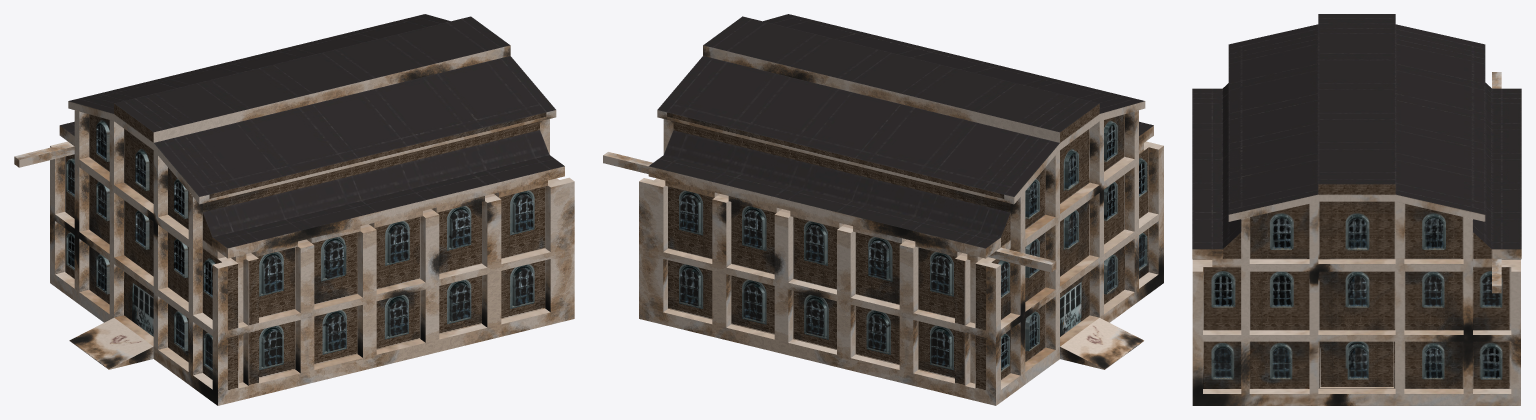
The model's file is torDistPoliceStation.fbx.
3 views of the same model, side by side, from view 1: azimuth 30°, elevation 25°; view 2: azimuth 150°, elevation 25°; view 3: azimuth 270°, elevation 25° (orthographic). The views are drawn at different scales.
Parts seen in each view (by area): view 1: policeStation; view 2: policeStation; view 3: policeStation.
Boxes of the visible parts, x1,y1,x2,y2 form: policeStation: [14, 14, 574, 405]; policeStation: [603, 14, 1163, 405]; policeStation: [1192, 14, 1521, 405].
Size of the model in its own units: 79.68 by 38.49 by 51.81.
Materials: 1 (1 with a texture image).
